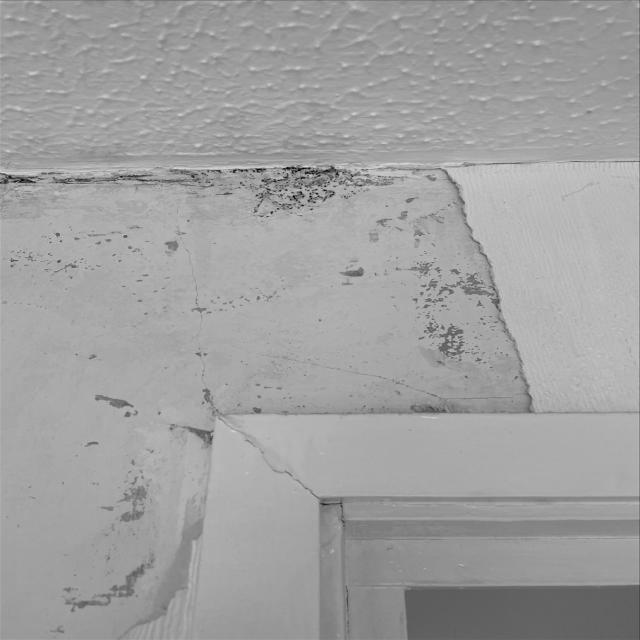stain marks: (0, 161, 534, 415), (0, 416, 210, 634)
